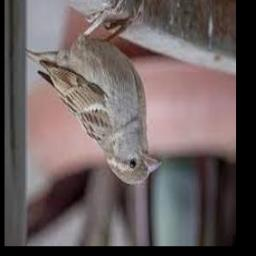Sparrow: (25, 0, 163, 185)
